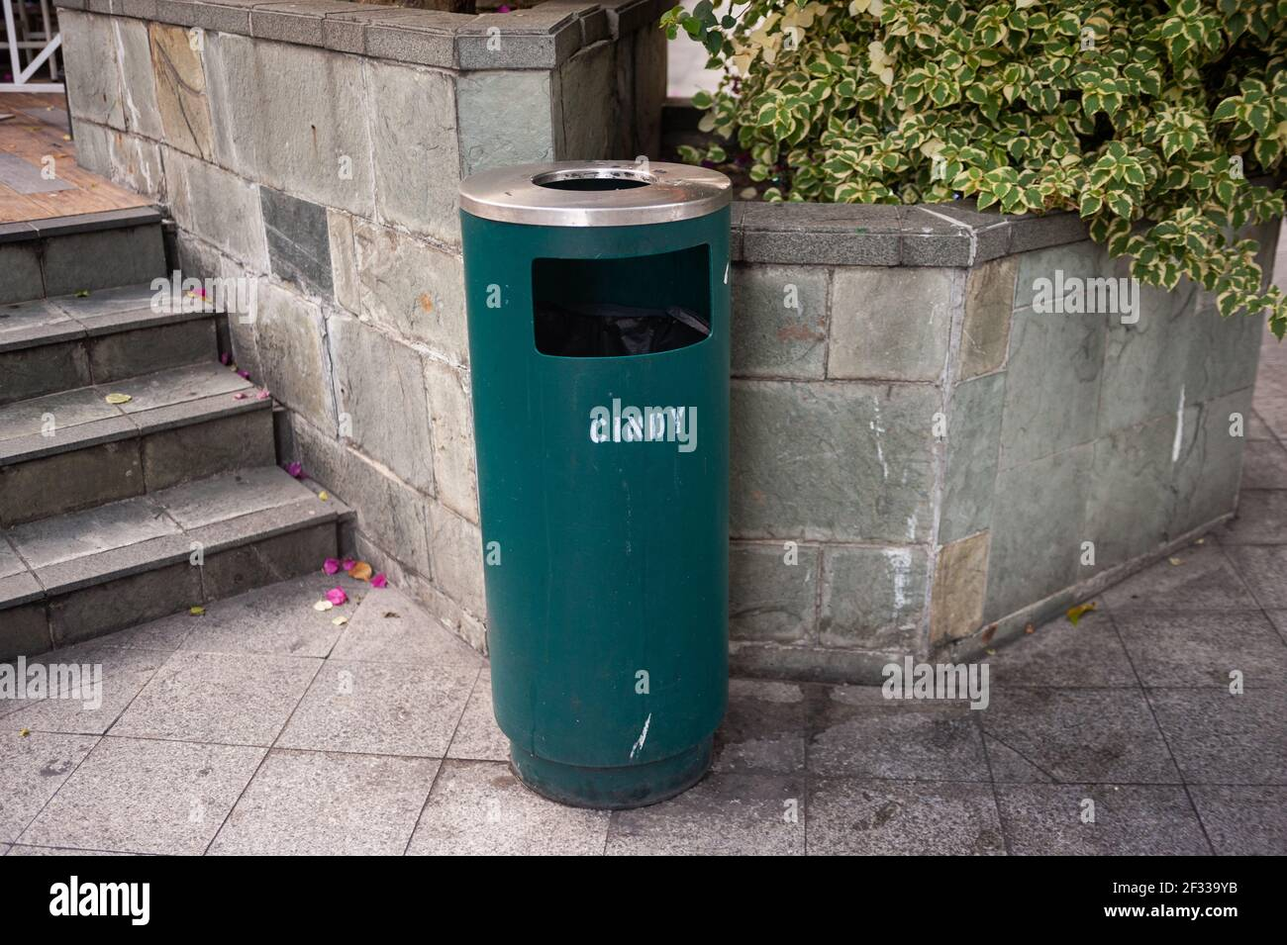empty: (1, 75, 362, 680)
